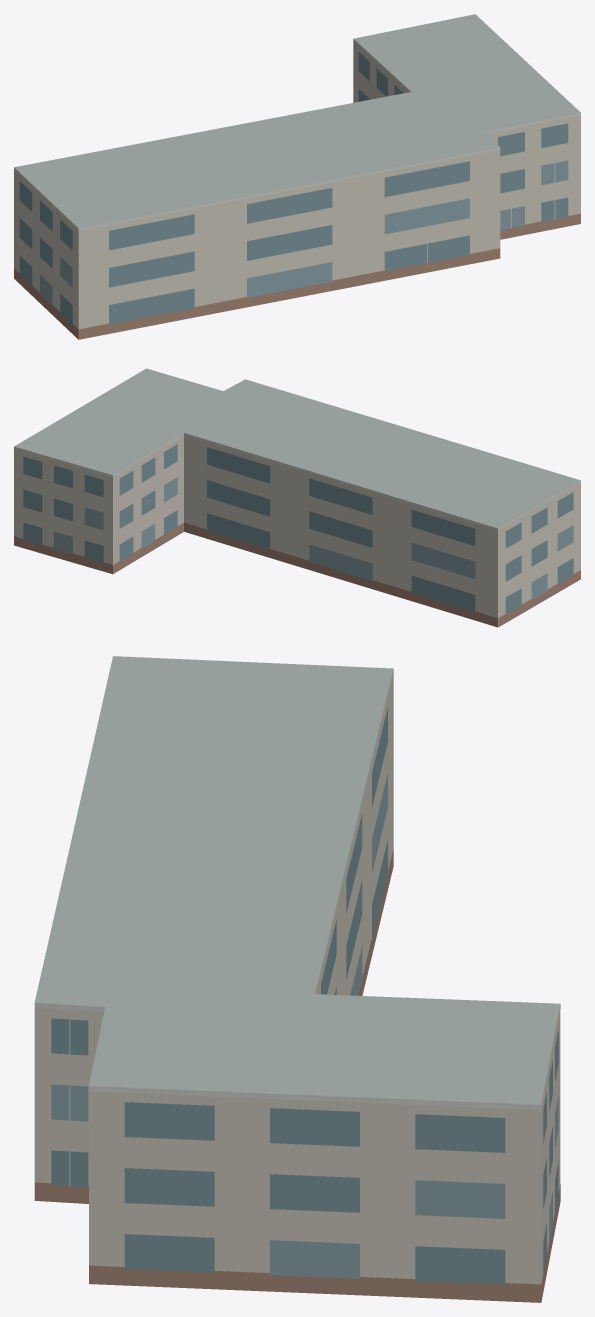
Rendered from survey-upis-32794289.glb.
The picture shows the model from 3 angles, top to bottom: view 1: azimuth 30°, elevation 25°; view 2: azimuth 150°, elevation 25°; view 3: azimuth 270°, elevation 25°; orthographic projection. The views are drawn at different scales.
Parts seen in each view (by area): view 1: survey-upis-32794289.tmp; view 2: survey-upis-32794289.tmp; view 3: survey-upis-32794289.tmp.
Boxes of the visible parts, bbox=[...] form: survey-upis-32794289.tmp: bbox=[14, 14, 580, 339]; survey-upis-32794289.tmp: bbox=[14, 368, 580, 627]; survey-upis-32794289.tmp: bbox=[34, 656, 560, 1302].
Size of the model in its own units: 44.49 by 9.15 by 22.04.
